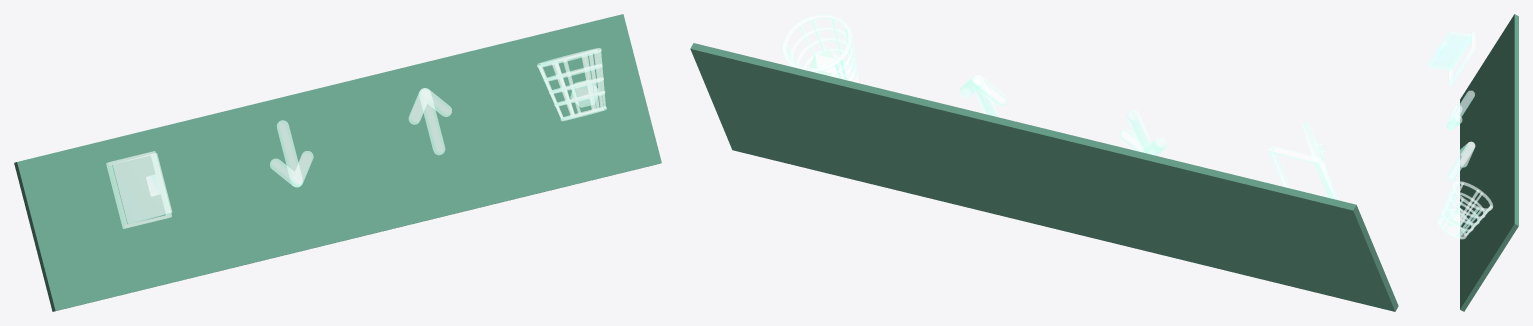
3 views of the same model, side by side, from view 1: azimuth 30°, elevation 25°; view 2: azimuth 150°, elevation 25°; view 3: azimuth 270°, elevation 25° (orthographic). The views are drawn at different scales.
Visible parts, largest first — view 1: cube, door_1, bin_2, down_1, up_1; view 2: cube, bin_2, door_1, down_1, up_1; view 3: cube, bin_2, door_1, down_1, up_1.
Boxes of the visible parts, box(x1,y1,x2,y2) form: cube: box(14, 14, 661, 311); door_1: box(106, 151, 172, 228); bin_2: box(537, 48, 606, 121); down_1: box(270, 120, 313, 187); up_1: box(408, 88, 451, 154); cube: box(690, 43, 1398, 311); bin_2: box(782, 14, 858, 82); door_1: box(1267, 121, 1338, 200); down_1: box(1119, 110, 1166, 155); up_1: box(959, 75, 1006, 117); cube: box(1460, 14, 1518, 311); bin_2: box(1437, 181, 1492, 239); door_1: box(1427, 31, 1475, 86); down_1: box(1446, 90, 1474, 130); up_1: box(1446, 141, 1475, 181).
Size of the model in its own units: 2000 by 454 by 369.
